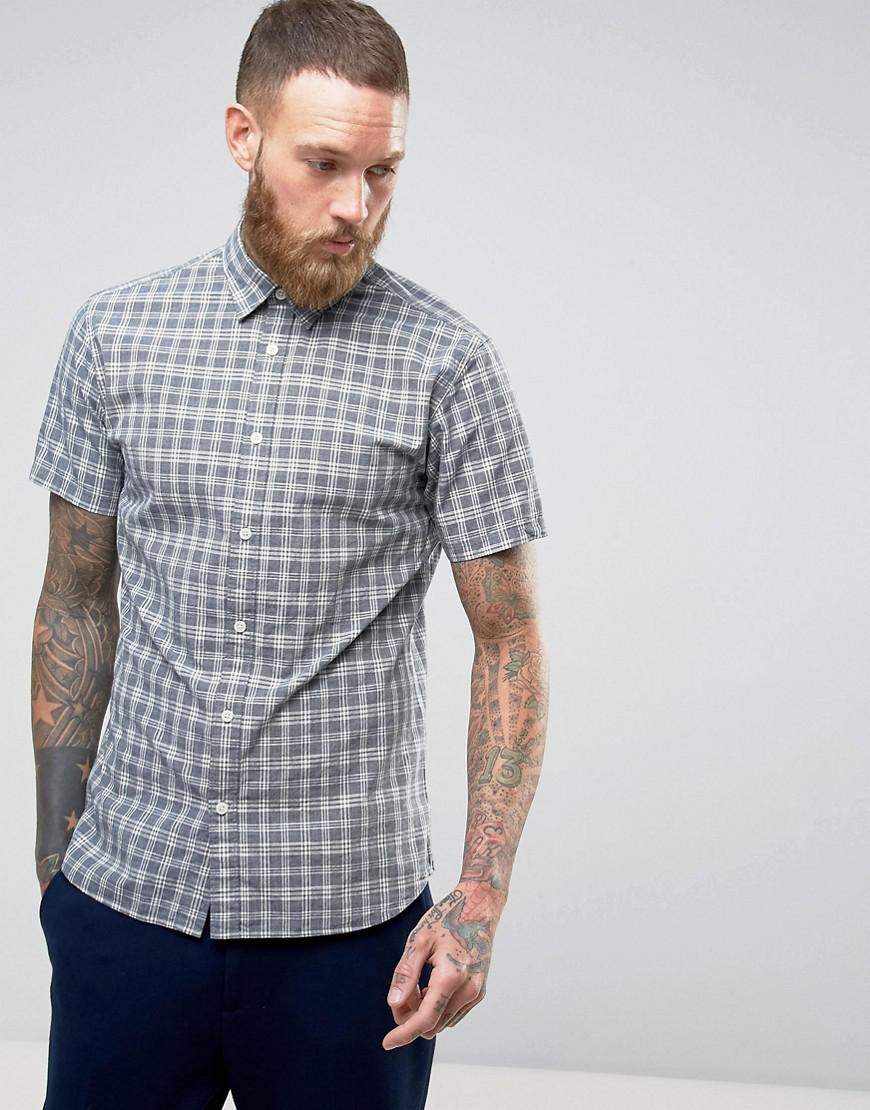teeshirt: (30, 240, 551, 930)
